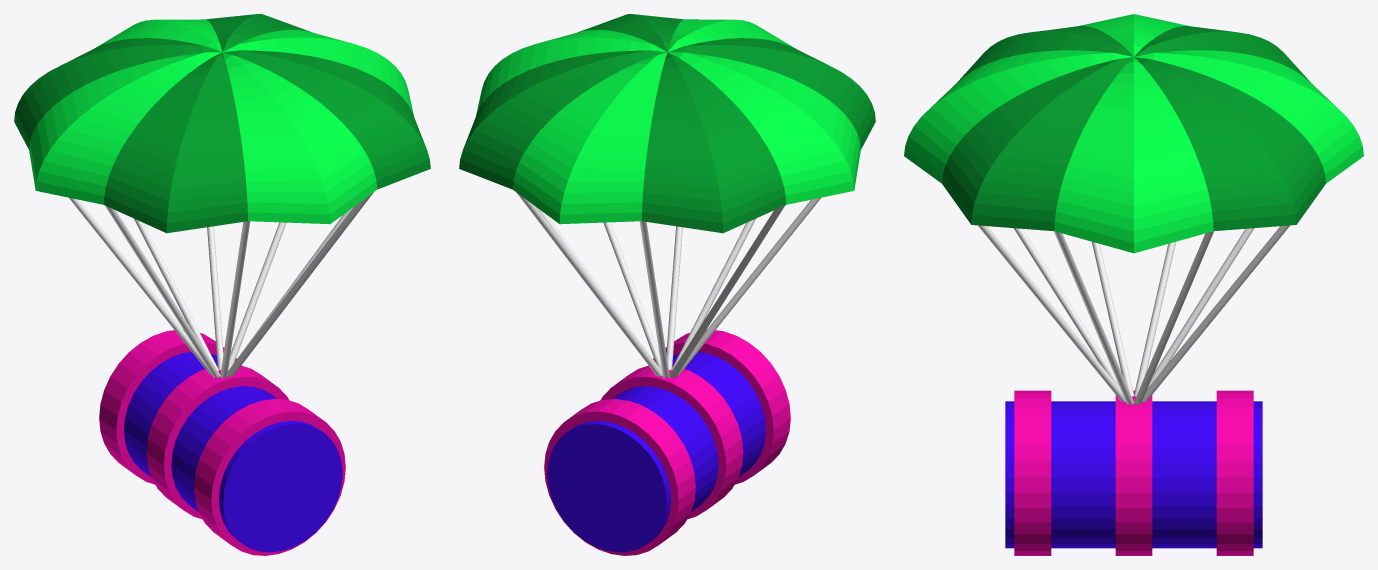
The model's file is ParachuteFuel.dae.
The picture shows the model from 3 angles, left to right: view 1: azimuth 30°, elevation 25°; view 2: azimuth 150°, elevation 25°; view 3: azimuth 270°, elevation 25°; orthographic projection. The views are drawn at different scales.
Parts seen in each view (by area): view 1: Sphere; view 2: Sphere; view 3: Sphere.
Boxes of the visible parts, box(x1,y1,x2,y2) form: Sphere: box(14, 14, 430, 555); Sphere: box(459, 14, 875, 555); Sphere: box(904, 14, 1363, 555).
Size of the model in its own units: 25 by 25 by 29.72.
